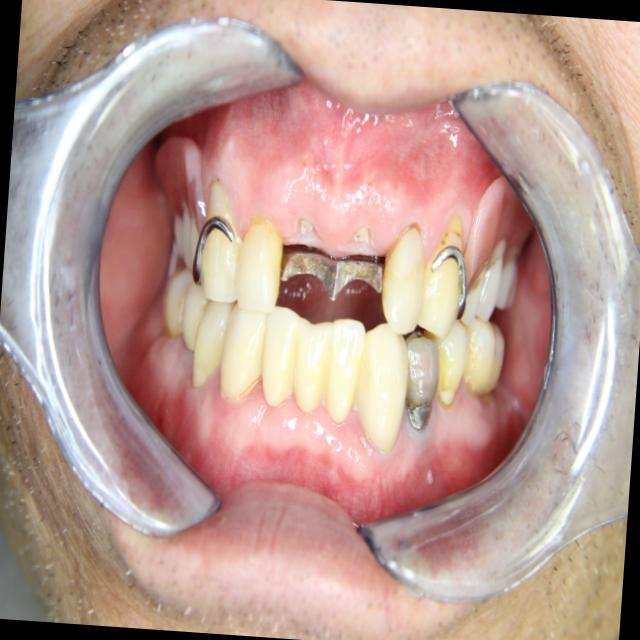tooth: (350, 315, 413, 455), (414, 211, 472, 342), (193, 177, 249, 305), (376, 217, 431, 338), (230, 209, 287, 317), (414, 313, 473, 414), (394, 324, 446, 437), (217, 295, 270, 400), (322, 312, 368, 429), (185, 291, 237, 394), (458, 307, 510, 402), (256, 299, 300, 410), (290, 309, 330, 418), (475, 228, 507, 325), (158, 261, 196, 342), (178, 277, 211, 354), (459, 255, 490, 329), (495, 238, 523, 313), (173, 194, 198, 275), (164, 204, 191, 264), (184, 211, 208, 271)
